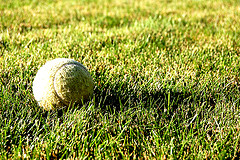tennis ball: (31, 57, 94, 111)
